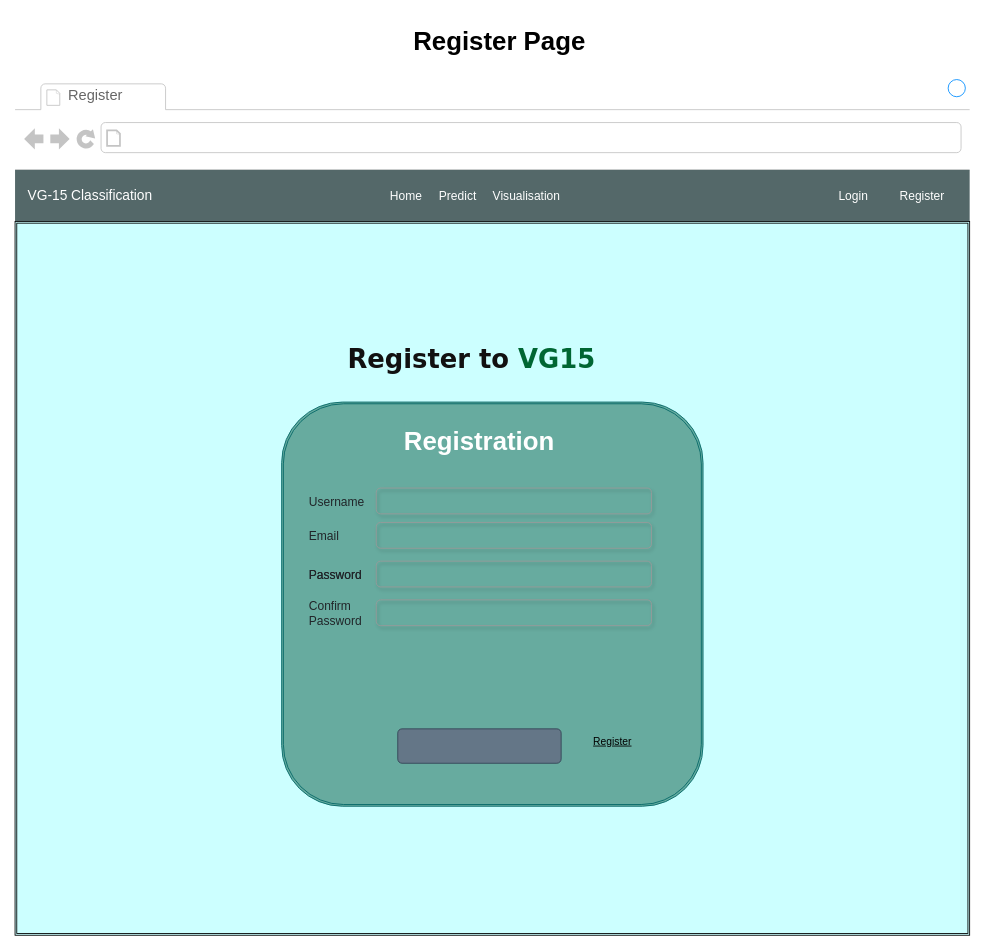
The diagram is 985 pixels wide and 950 high, and some of its shapes have lost their labels. Each missing label, with the centre of its shape:
https://register: (x=234, y=137)
Sign in: (x=479, y=745)
